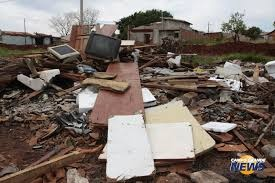rubble: (24, 35, 275, 151)
